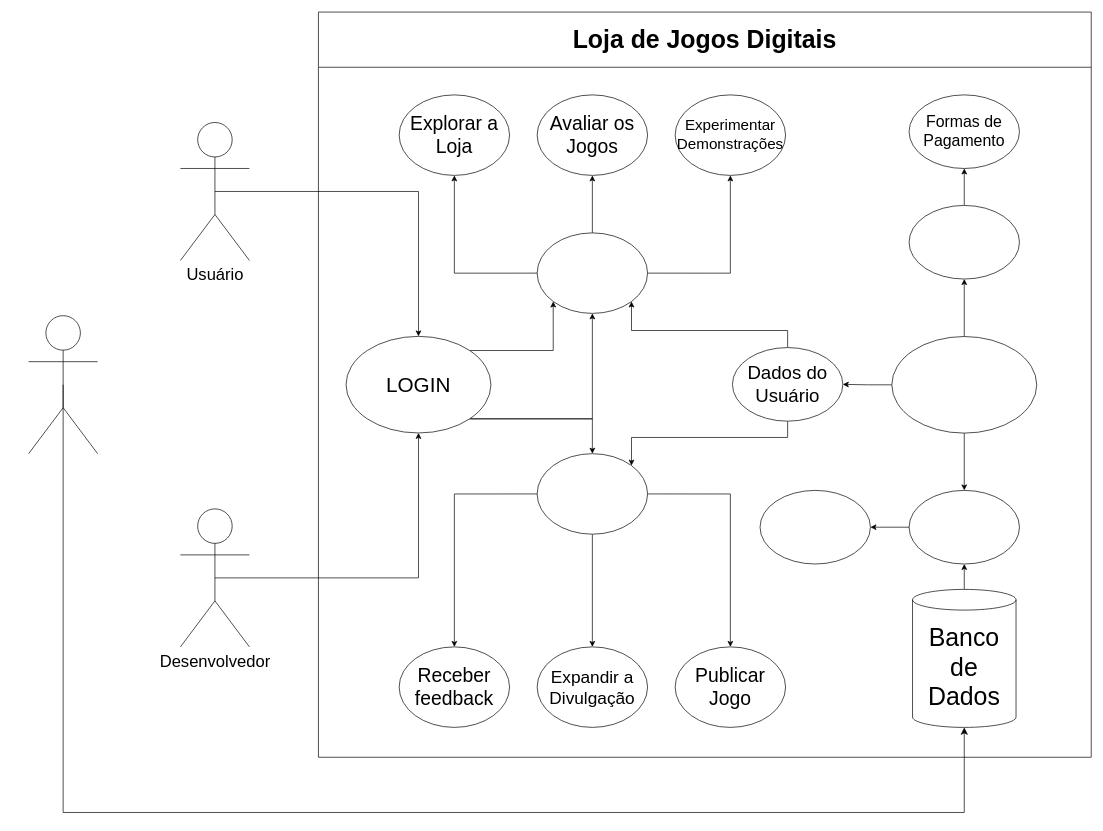
Some shapes in this 1103 by 831 pixel diagram are drawn without their labels. The box of each missing label's shape, as (x1, y1, x2, y2) in pixels:
Administrador: (28, 315, 98, 454)
Comercialização do Jogo: (908, 490, 1019, 564)
Compra de um Jogo: (908, 205, 1019, 279)
Marketing e Divulgação: (759, 490, 870, 564)
Perfil de Desenvolvedor: (536, 453, 648, 534)
Perfil de Usuário: (536, 232, 648, 313)
REGISTRO DE ATIVIDADES: (891, 336, 1037, 433)
